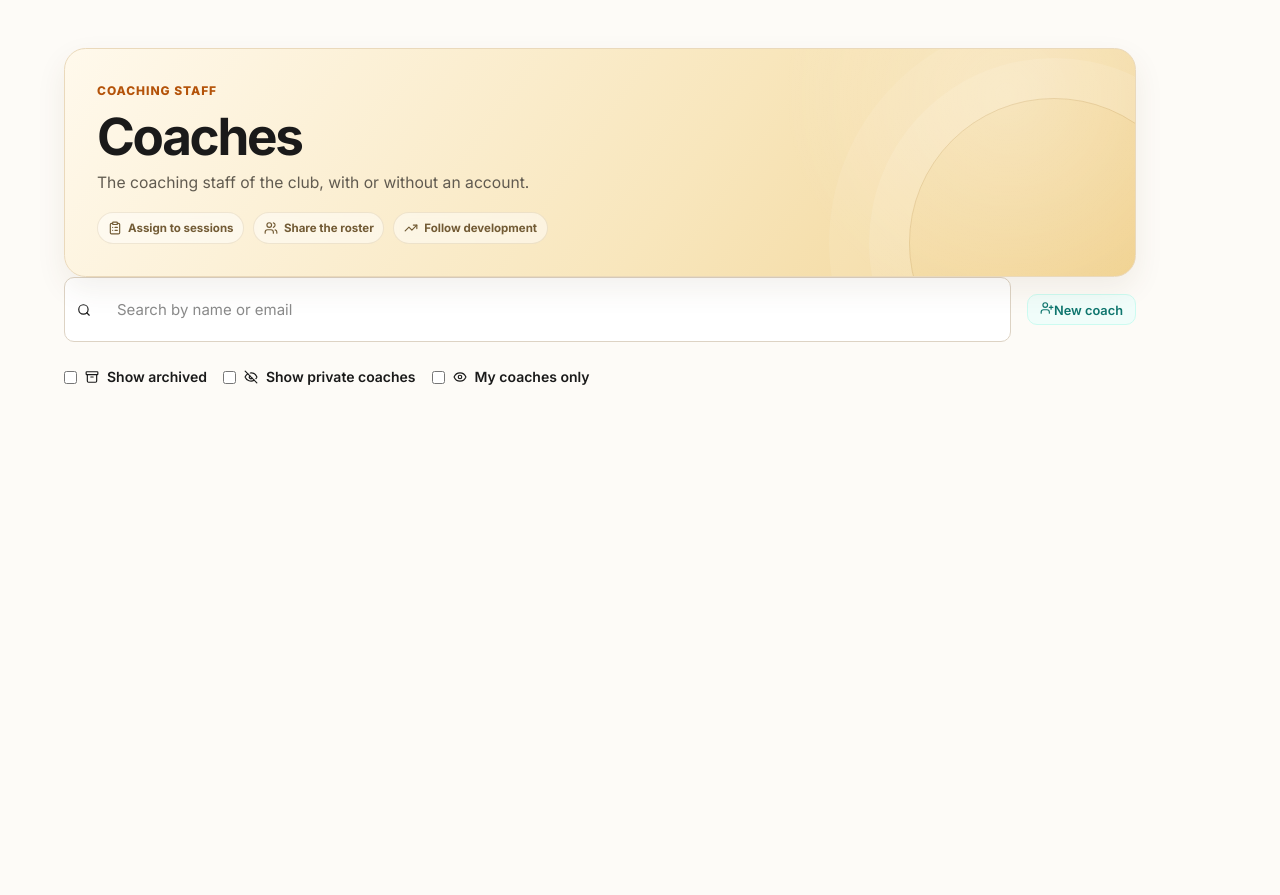
Coaches › records a profile without a Person lookup or contact fields
This screenshot has width=1280, height=895.
Click the button "New coach" at (1081, 310), box [1027,294,1136,325]
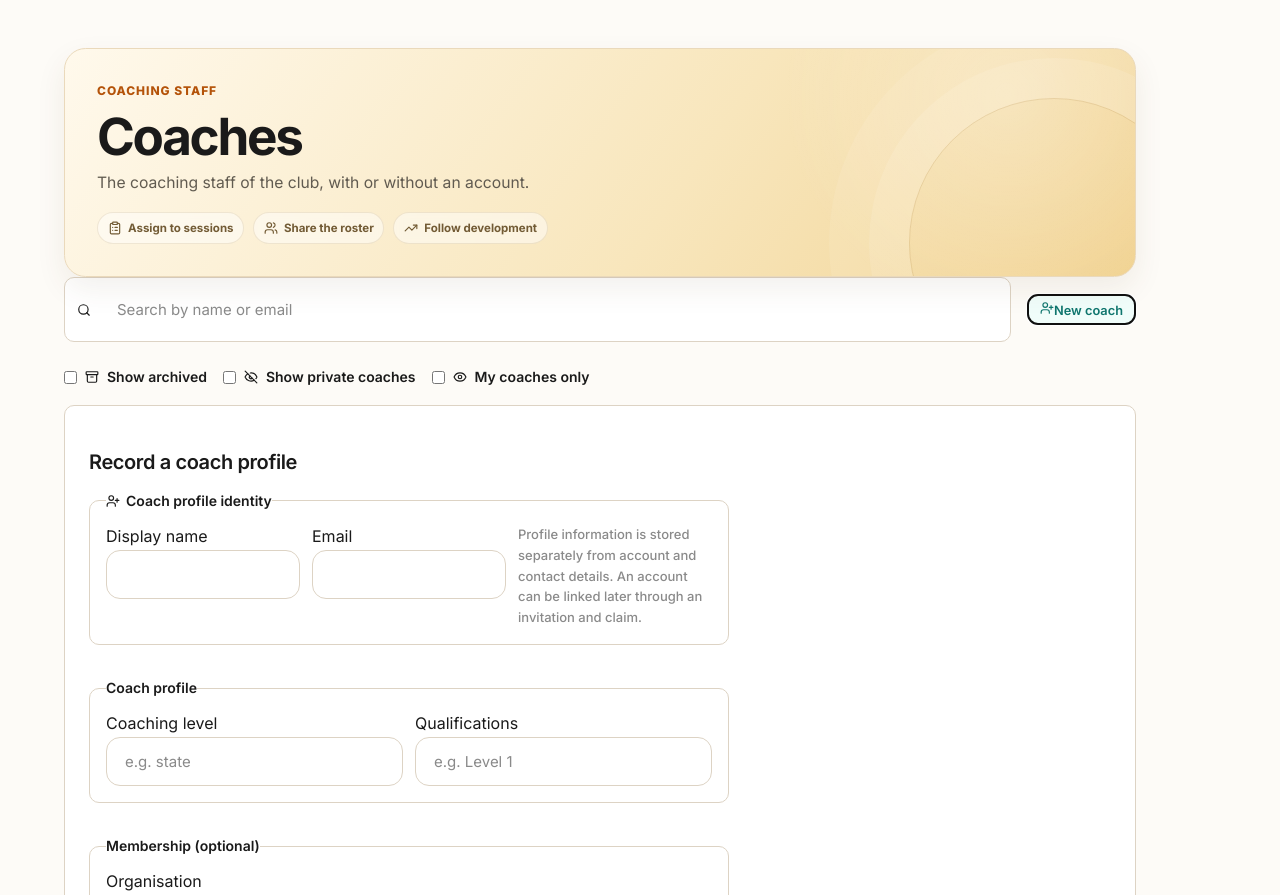
Expected: the field labelled "Display name" is shown, [106,550,300,598]
